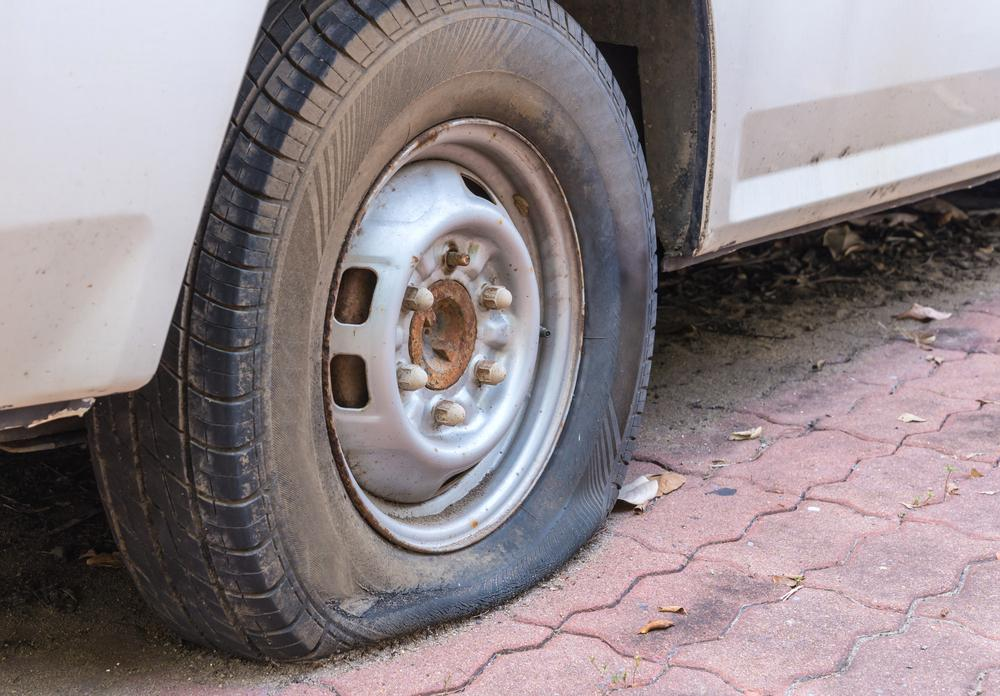tire flat: (86, 0, 659, 668)
